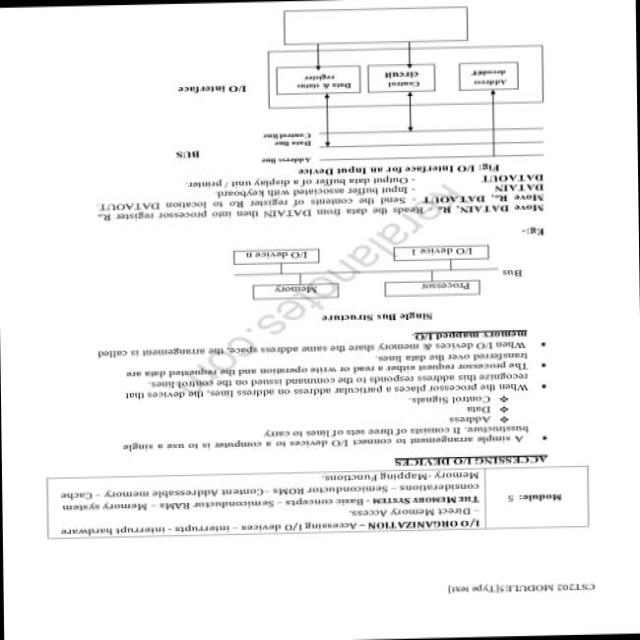Figure Detection - v3 Dataset Version2: (160, 0, 566, 173), (214, 230, 529, 311)
